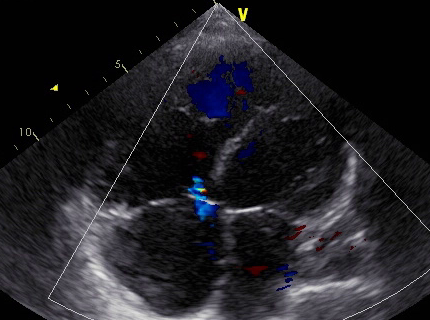TR: (113, 177, 218, 226)
